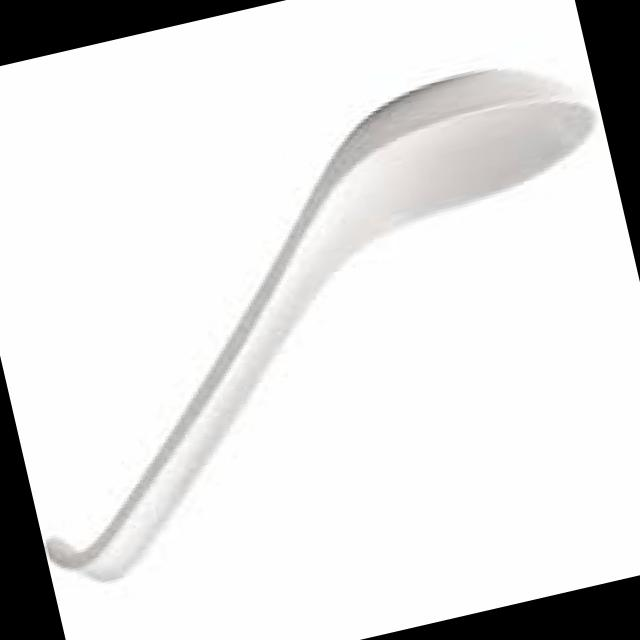spoon: (0, 19, 640, 627)
